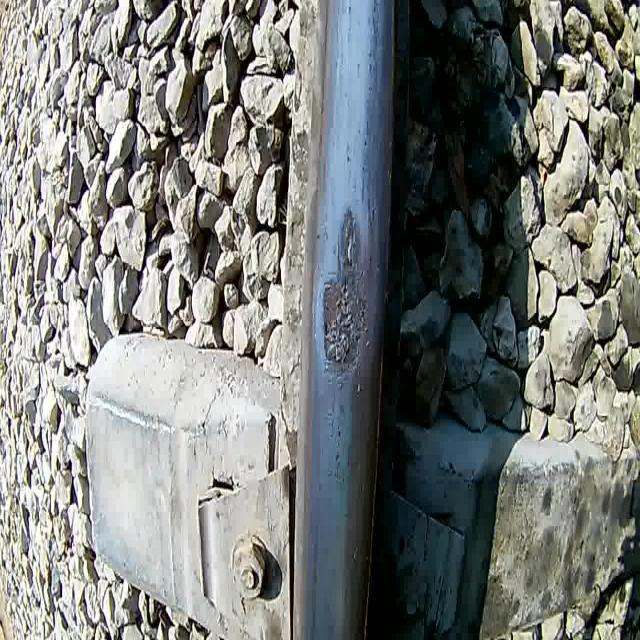Cracks: (344, 210, 358, 272), (335, 231, 342, 270)
Spallings: (321, 276, 368, 370)
Squats: (315, 202, 373, 382)
